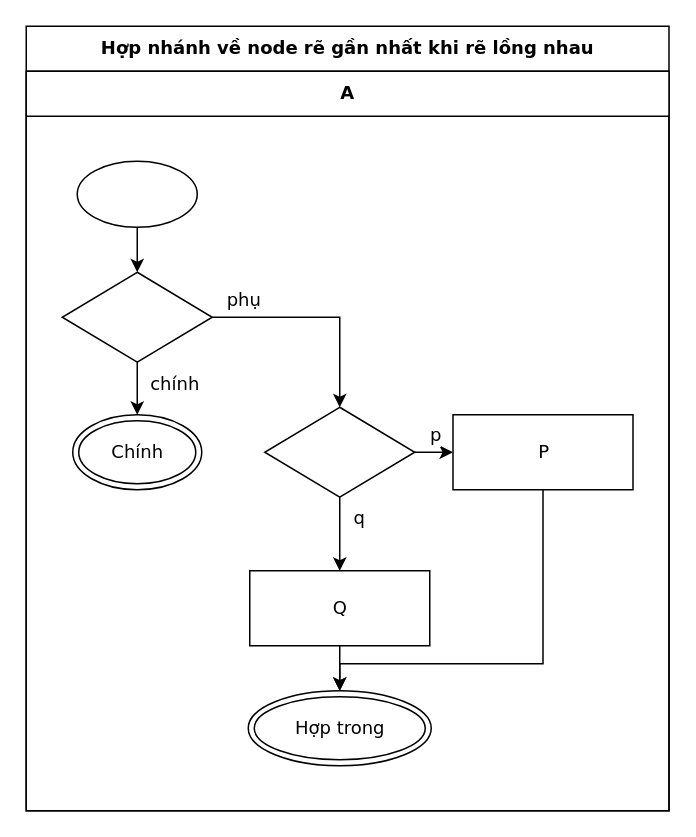
This 696x837 diagram has some shape labels left out. The centre of each missing label's shape, as x and y in pixels:
Ngoài?: [136,316]
Trong?: [339,451]
Vào: [136,193]
